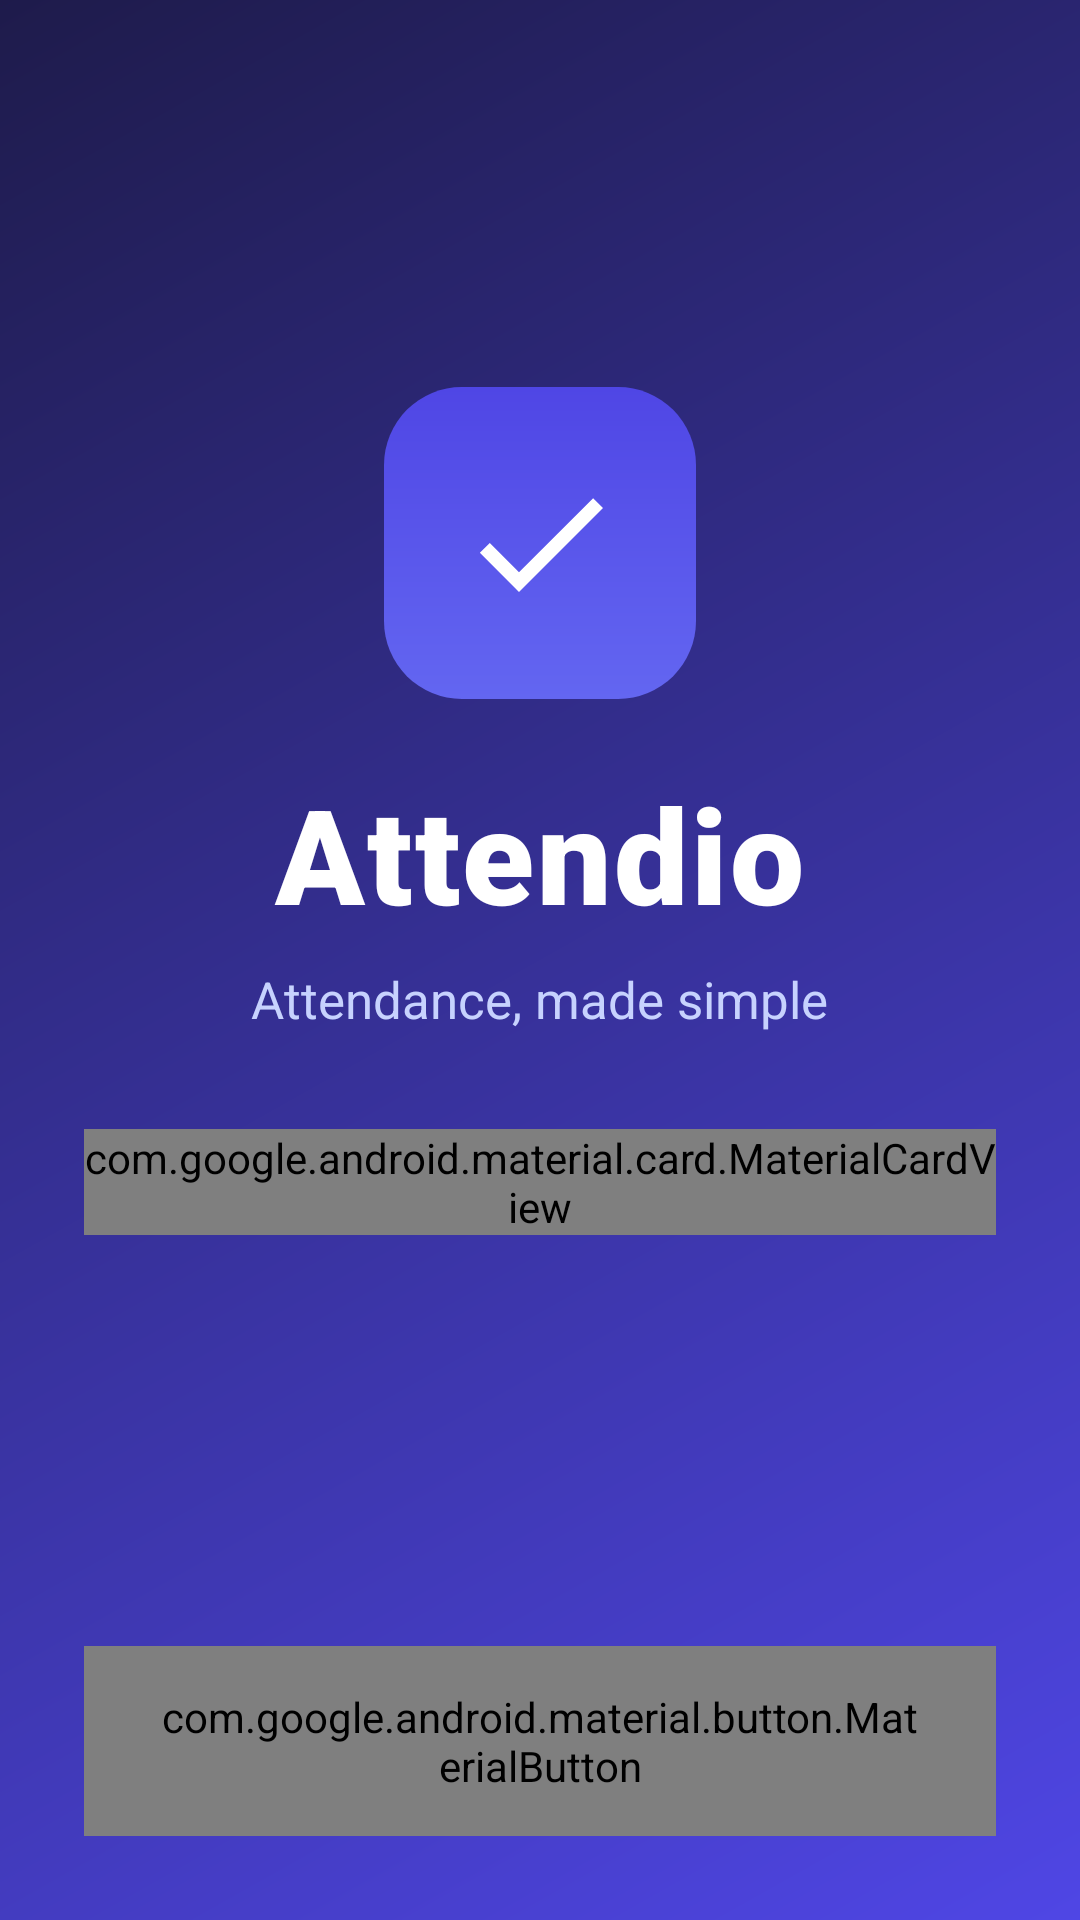

Named icons in this screenshot (1080px x 1920px) and their centers, point (x, y):
check: point (540, 543)
